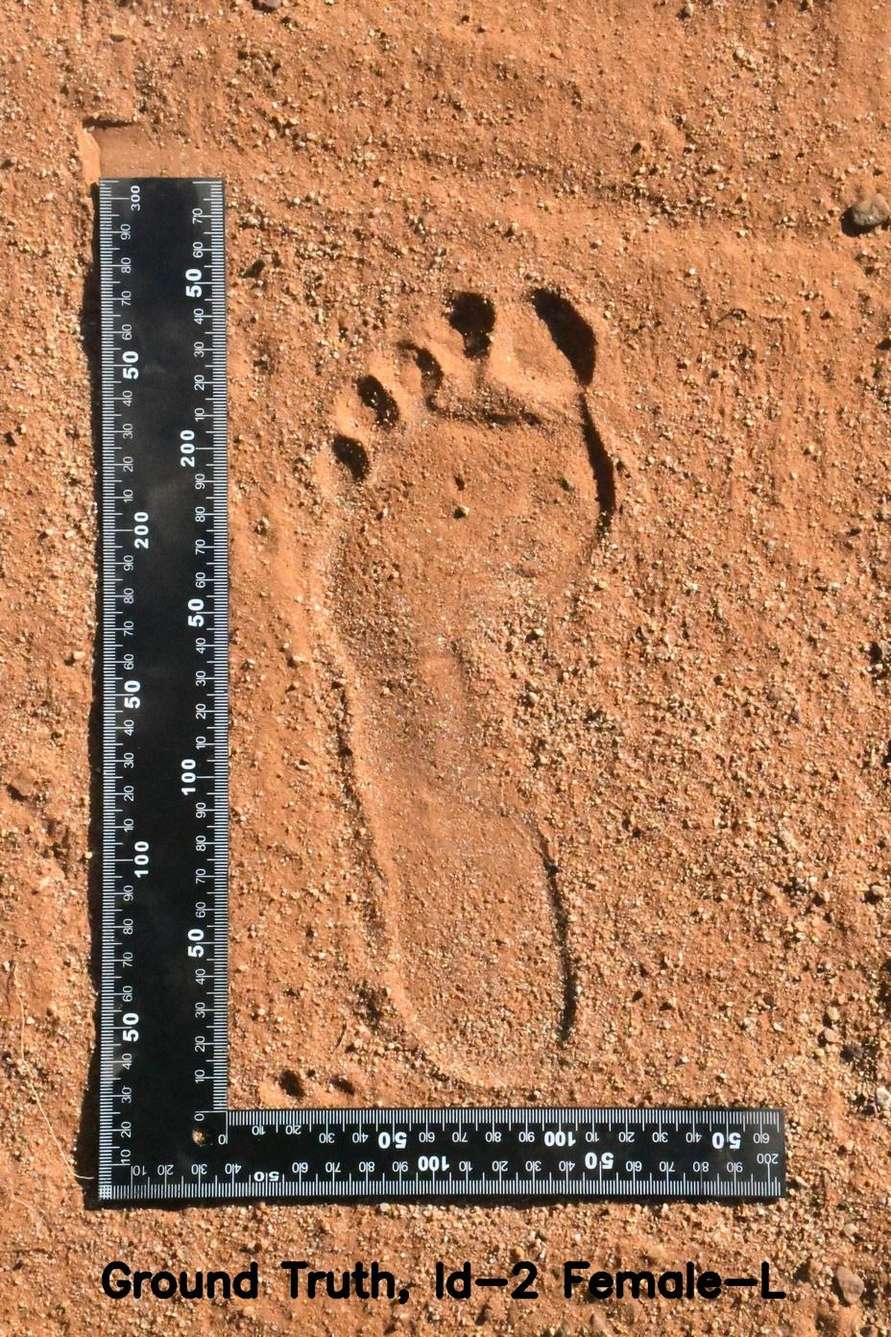human_footprint: (304, 238, 638, 1111)
